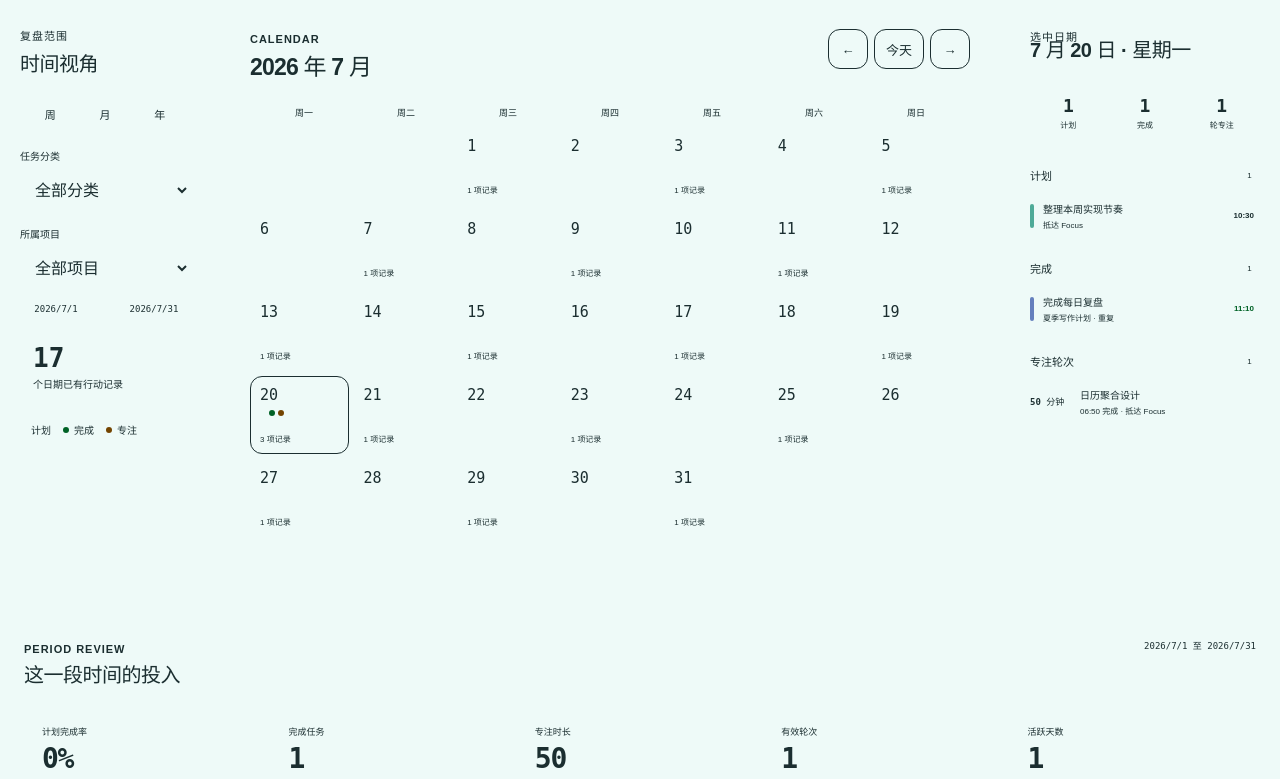
Test case: CalendarWorkspace › switches between month, week, and year views
Expected: the heading "2026 年 7 月" is shown, [250,52,371,83]
Expected: the heading "这一段时间的投入" is shown, [24,662,180,689]
What coordinates should you click on to do the following:
click the radio button labelled "周"
I would click on:
 (50, 114)
Its box is [23,99,78,129].
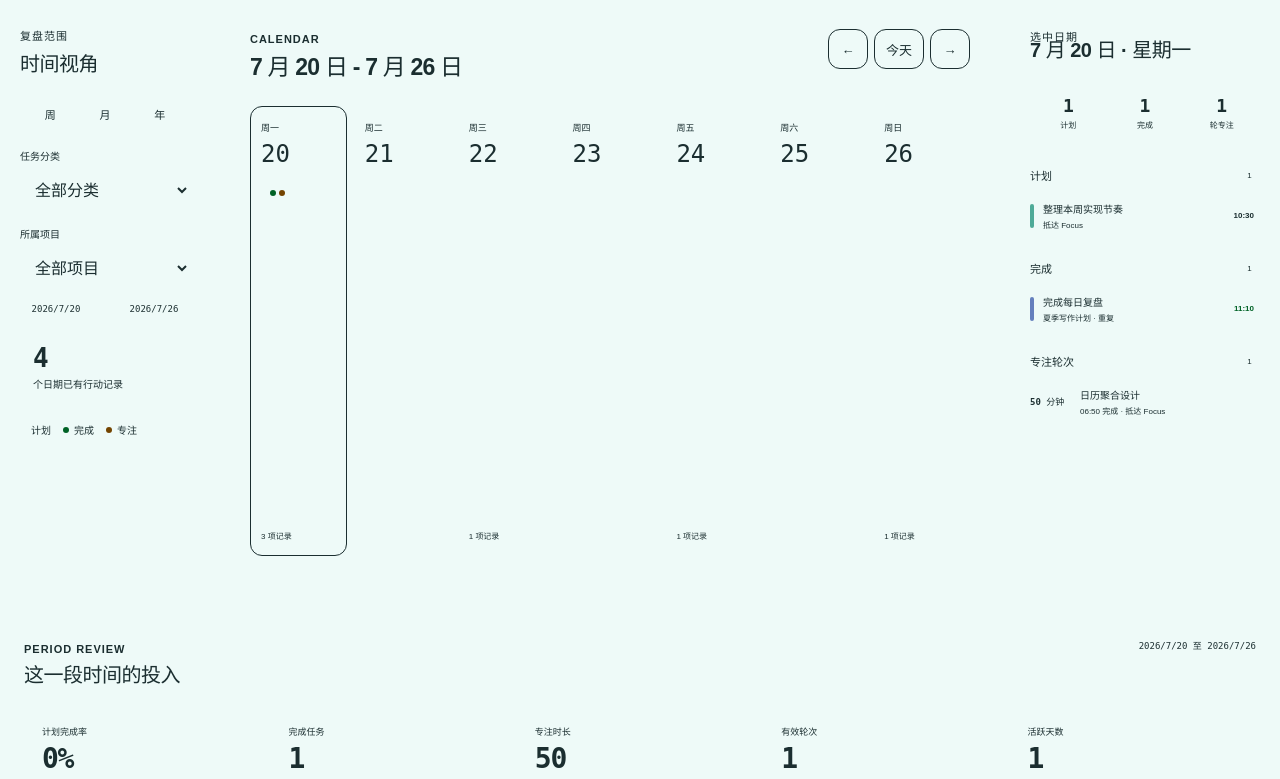
Result: the heading "7 月 20 日 - 7 月 26 日" is shown at [250,52,462,83]
Result: the number of buttons named "项计划" is 7
What coordinates should you click on to do the following:
click the radio button labelled "年"
I would click on:
 (160, 114)
Its box is [132,99,187,129].
(page scrolled)
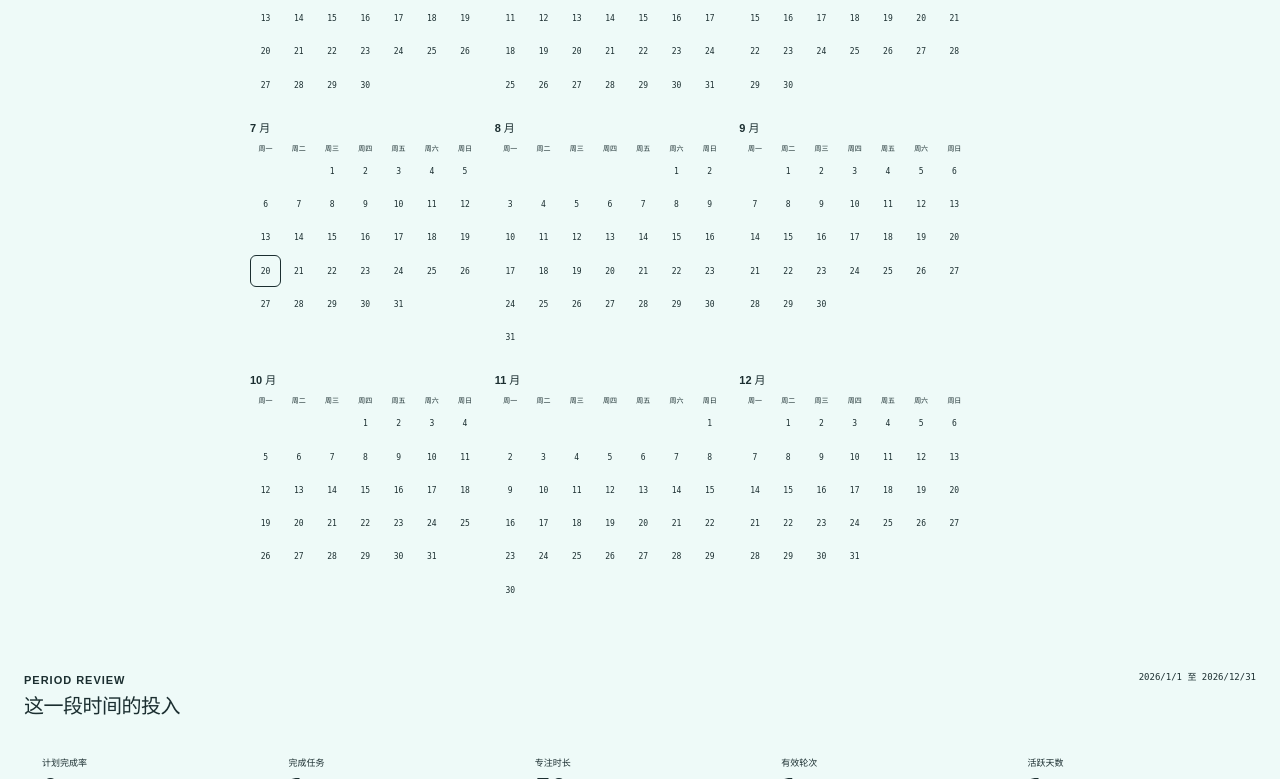
Result: the heading "12 月" is shown at [739,374,766,386]
